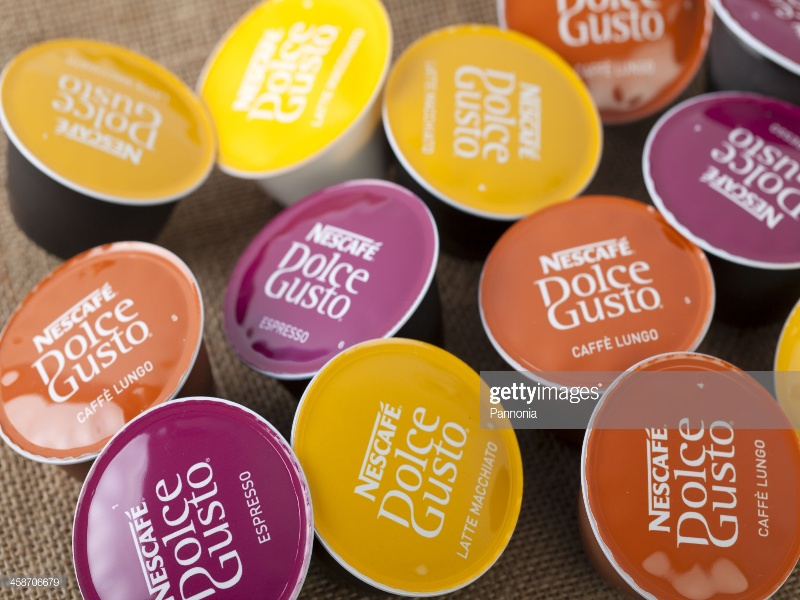nescafe-dolce: (287, 347, 528, 591), (590, 365, 798, 600), (1, 234, 208, 468), (78, 408, 310, 600), (1, 16, 216, 214), (476, 198, 699, 380), (225, 181, 438, 369), (363, 33, 578, 197), (204, 1, 379, 188), (649, 102, 800, 254), (493, 1, 721, 83)
